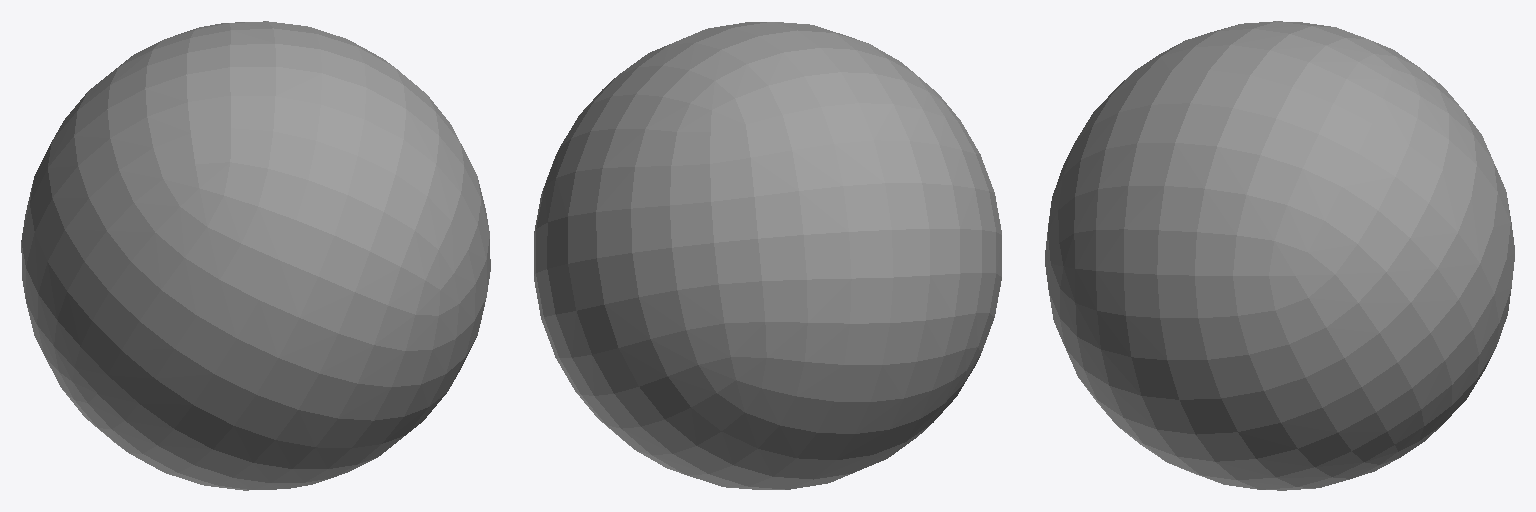
Rendered from moon.obj.
3 views of the same model, side by side, from view 1: azimuth 30°, elevation 25°; view 2: azimuth 150°, elevation 25°; view 3: azimuth 270°, elevation 25° (orthographic).
Visible parts, largest first — view 1: Moon_Cube.002; view 2: Moon_Cube.002; view 3: Moon_Cube.002.
Part boxes in pixels (x1,y1,x2,y2): Moon_Cube.002: (21, 21, 490, 490); Moon_Cube.002: (534, 22, 1001, 489); Moon_Cube.002: (1045, 21, 1514, 490).
Bounding box in the file's own units: 1.05 × 1.04 × 1.05.